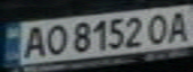1: (90, 17, 109, 52)
2: (124, 14, 148, 47)
5: (106, 16, 127, 51)
8: (69, 19, 93, 53)
A: (18, 24, 51, 60), (163, 7, 193, 43)
O: (39, 21, 69, 56), (145, 11, 175, 45)
